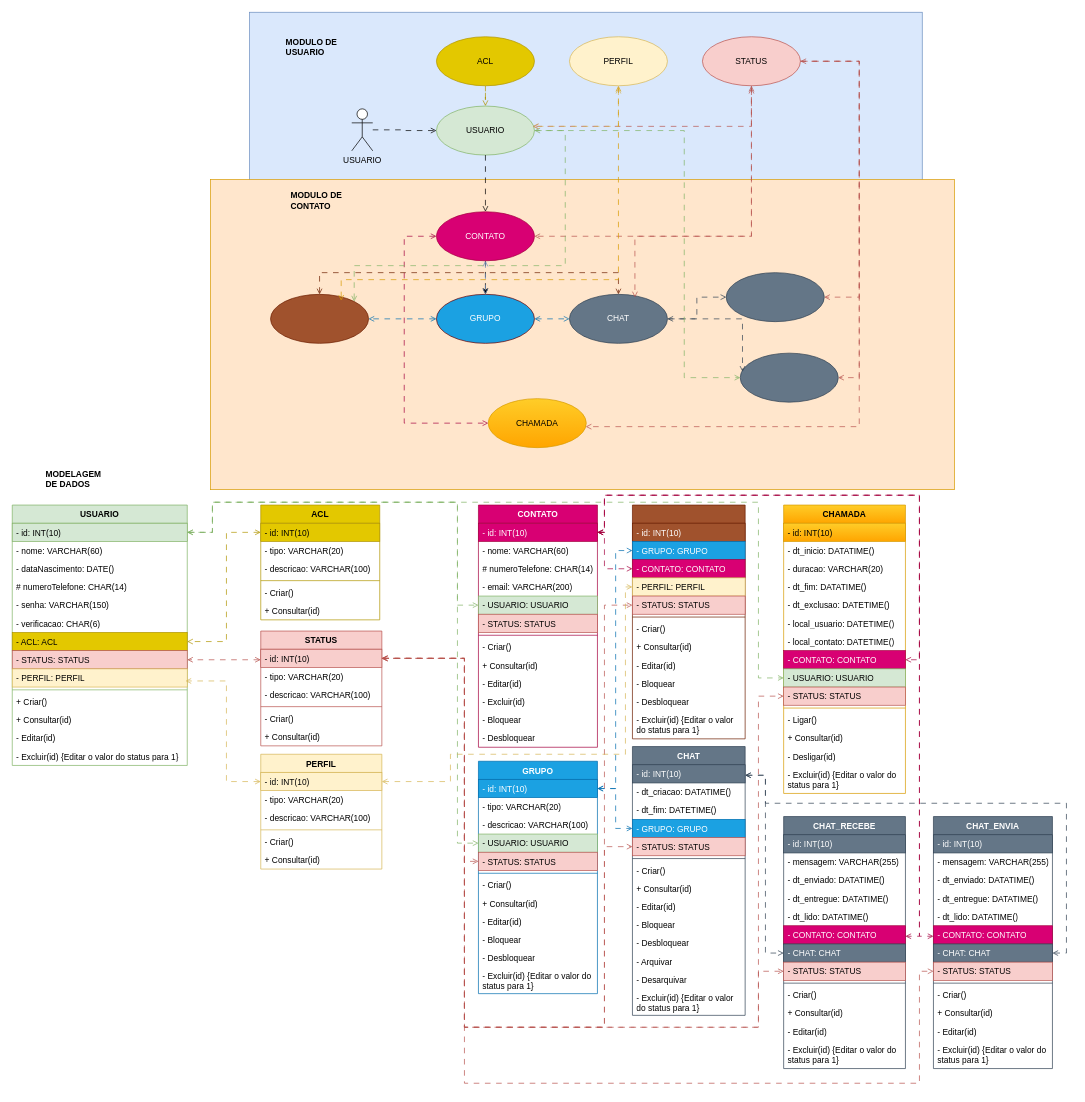
Image size: 1085x1102. Some labels were removed from this diagram. Here are the shapes that lost their labels. From the top down, the box of each, then its label:
(726, 272, 824, 322): RECEBE
(270, 294, 369, 343): LISTA CONTATO
(740, 352, 838, 402): ENVIA
(632, 504, 745, 739): LISTA_CONTATO
